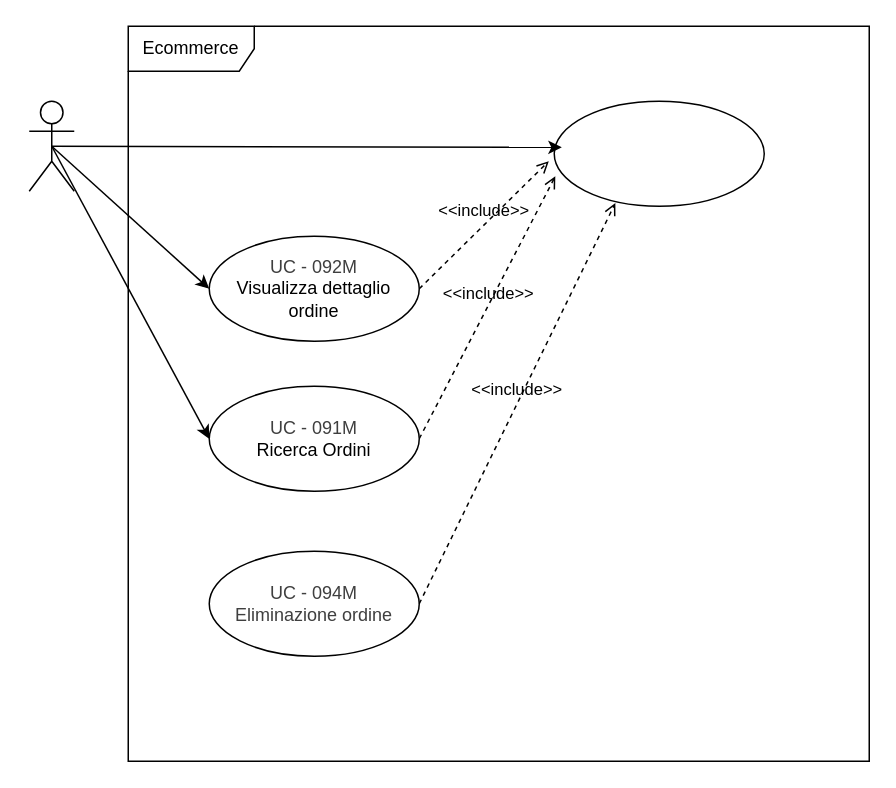
Image size: 896x788. Some labels were removed from this diagram. The shapes that lost their labels are listed below. From the top down, each one's box as (x1, y1, x2, y2) in pixels, then its label:
(28, 100, 74, 191): Utente
(553, 100, 764, 206): UC - 090 M Gestione Ordini
